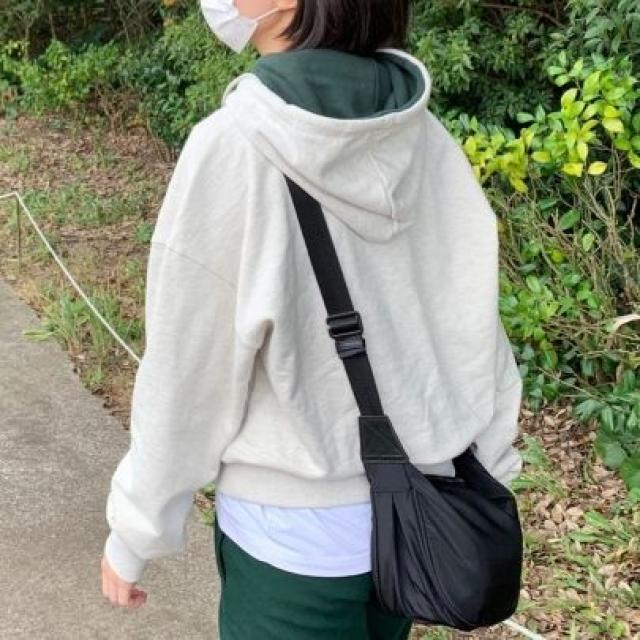hoodies: (107, 42, 521, 586)
